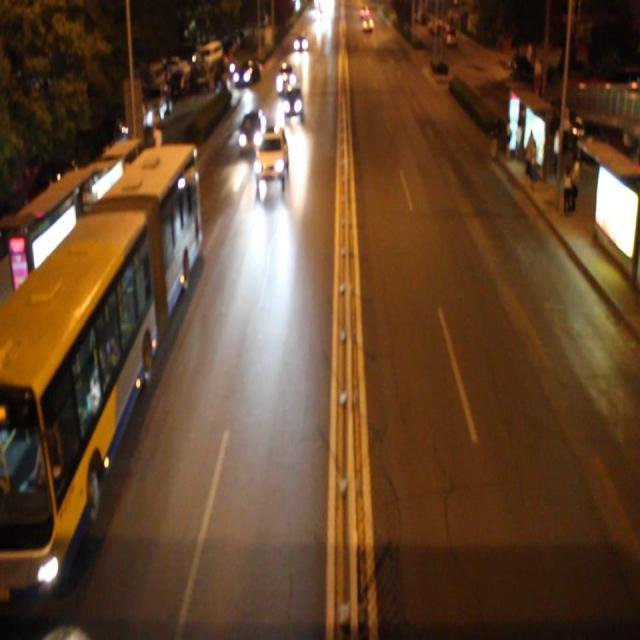car: (254, 127, 287, 184), (238, 110, 266, 152), (282, 84, 304, 120), (276, 60, 294, 95)
van: (1, 141, 200, 604)
